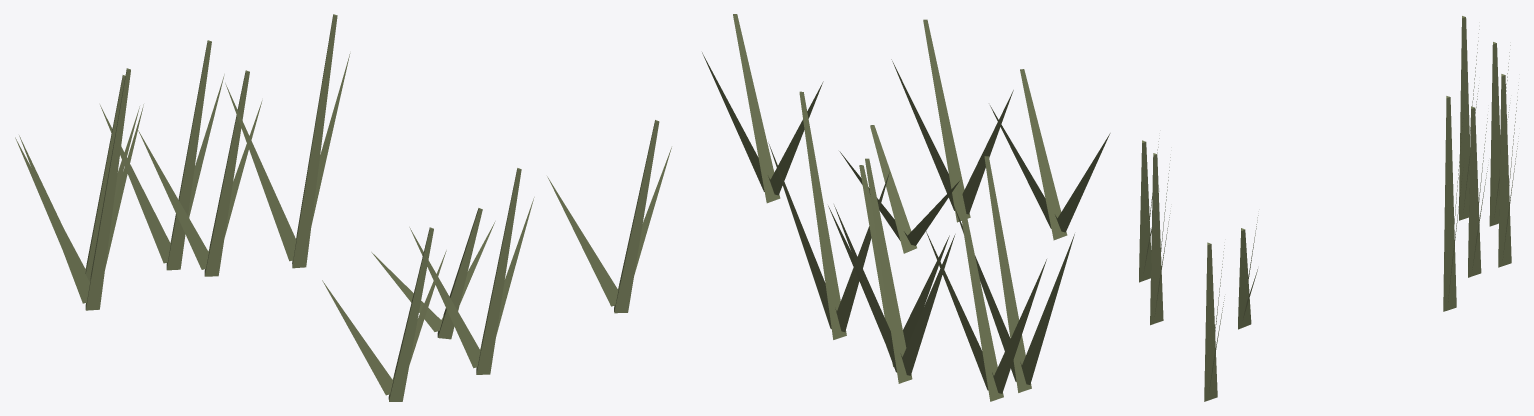
The model's file is NAT_Ground_00_Grass.glb.
3 views of the same model, side by side, from view 1: azimuth 30°, elevation 25°; view 2: azimuth 150°, elevation 25°; view 3: azimuth 270°, elevation 25° (orthographic). The views are drawn at different scales.
Parts seen in each view (by area): view 1: NAT_Ground_00_Grass; view 2: NAT_Ground_00_Grass; view 3: NAT_Ground_00_Grass.
Part boxes in pixels (x1,y1,x2,y2): NAT_Ground_00_Grass: [15, 14, 671, 401]; NAT_Ground_00_Grass: [702, 14, 1110, 401]; NAT_Ground_00_Grass: [1139, 16, 1518, 401].
Size of the model in its own units: 0.8235 by 0.3705 by 0.555.
